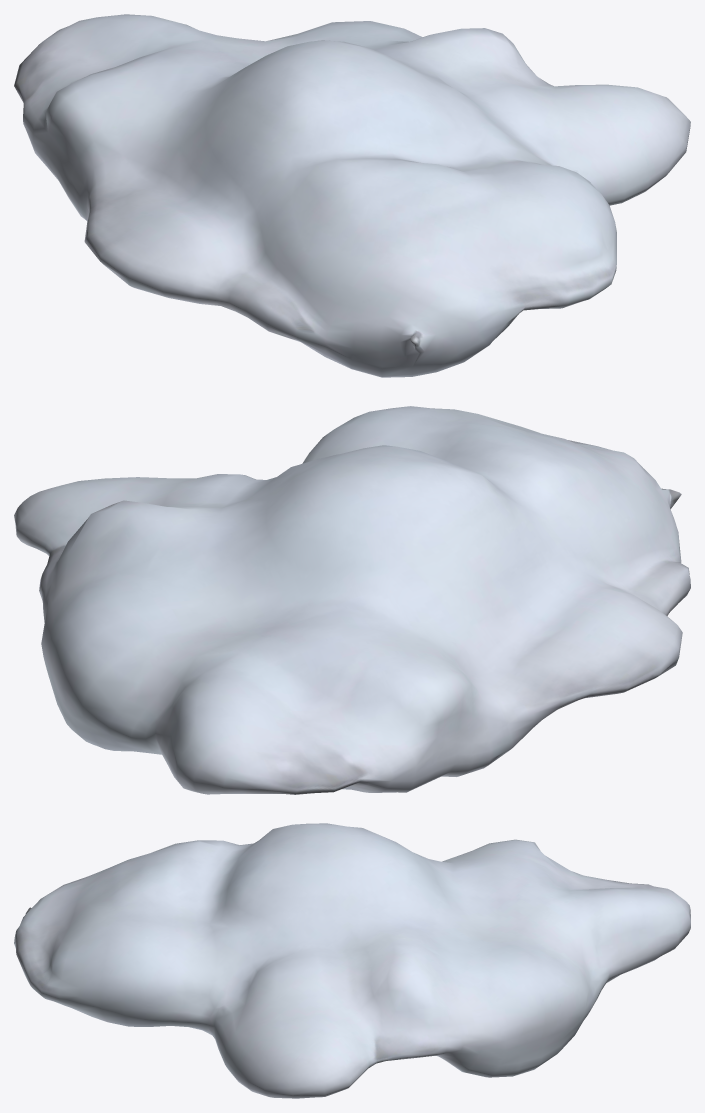
3 renders of one model, top to bottom at view 1: azimuth 30°, elevation 25°; view 2: azimuth 150°, elevation 25°; view 3: azimuth 270°, elevation 25°, orthographic. The views are drawn at different scales.
Parts seen in each view (by area): view 1: mesh; view 2: mesh; view 3: mesh.
Part boxes in pixels (left/top/right/bottom): mesh: left=14, top=14, right=690, bottom=377; mesh: left=14, top=406, right=690, bottom=794; mesh: left=14, top=823, right=690, bottom=1098.
Bounding box in the file's own units: 0.8455 × 0.2746 × 0.9952.
1 material, 1 textured.
